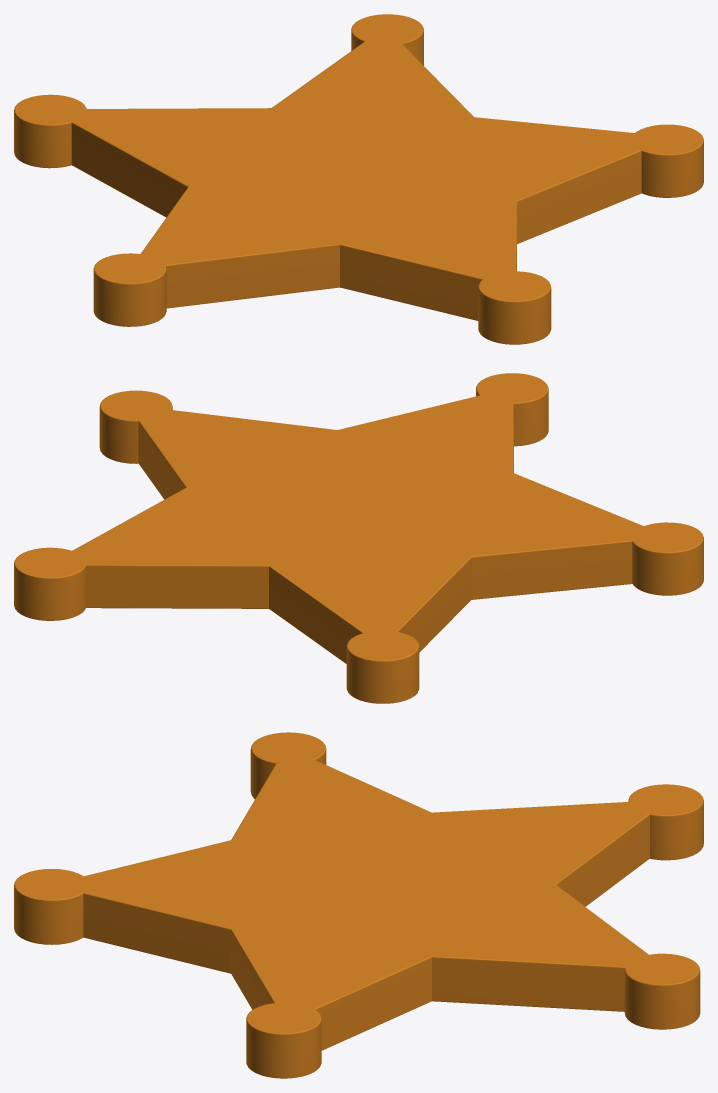
Rendered from Badge.fbx.
3 views of the same model, one above another, from view 1: azimuth 30°, elevation 25°; view 2: azimuth 150°, elevation 25°; view 3: azimuth 270°, elevation 25° (orthographic). The views are drawn at different scales.
Visible parts, largest first — view 1: Badge; view 2: Badge; view 3: Badge.
Part boxes in pixels (x1,y1,x2,y2): Badge: (14, 14, 703, 344); Badge: (14, 373, 703, 703); Badge: (14, 732, 703, 1078).
Size of the model in its own units: 16.39 by 1.14 by 15.82.
